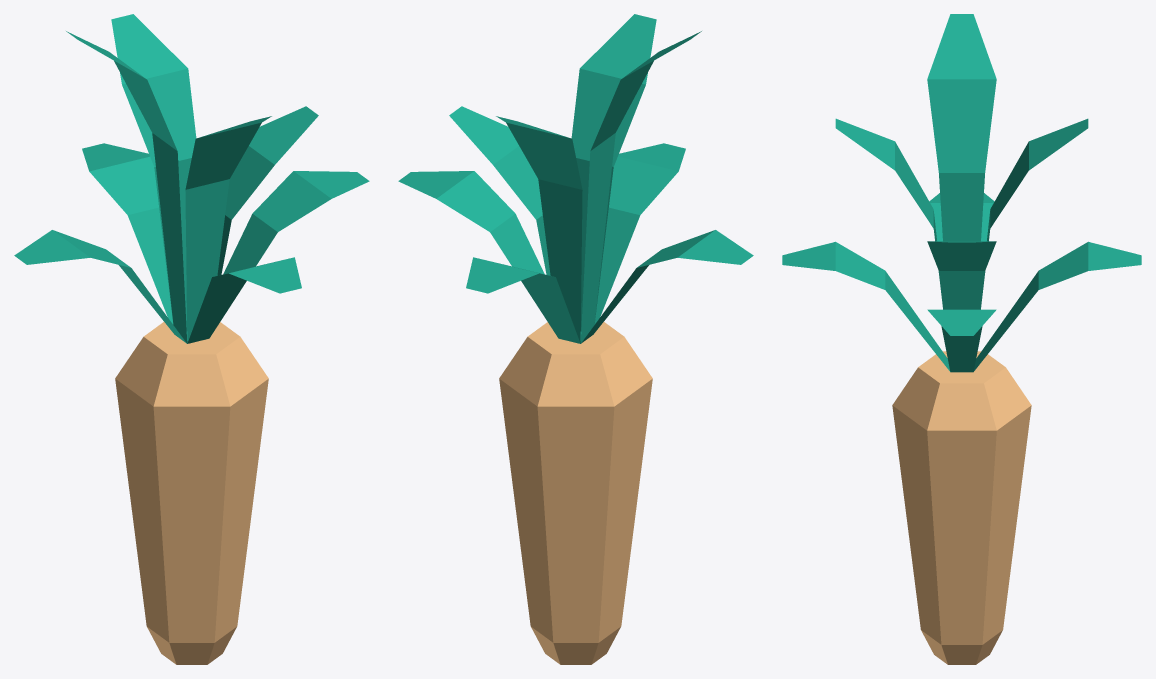
Rendered from crop_carrot.glb.
3 views of the same model, side by side, from view 1: azimuth 30°, elevation 25°; view 2: azimuth 150°, elevation 25°; view 3: azimuth 270°, elevation 25° (orthographic). The views are drawn at different scales.
Visible parts, largest first — view 1: crop_carrot; view 2: crop_carrot; view 3: crop_carrot.
Boxes of the visible parts, bbox=[...] form: crop_carrot: bbox=[14, 14, 369, 664]; crop_carrot: bbox=[398, 14, 753, 664]; crop_carrot: bbox=[782, 14, 1141, 664].
Bounding box in the file's own units: 0.3431 × 0.6194 × 0.3431.
